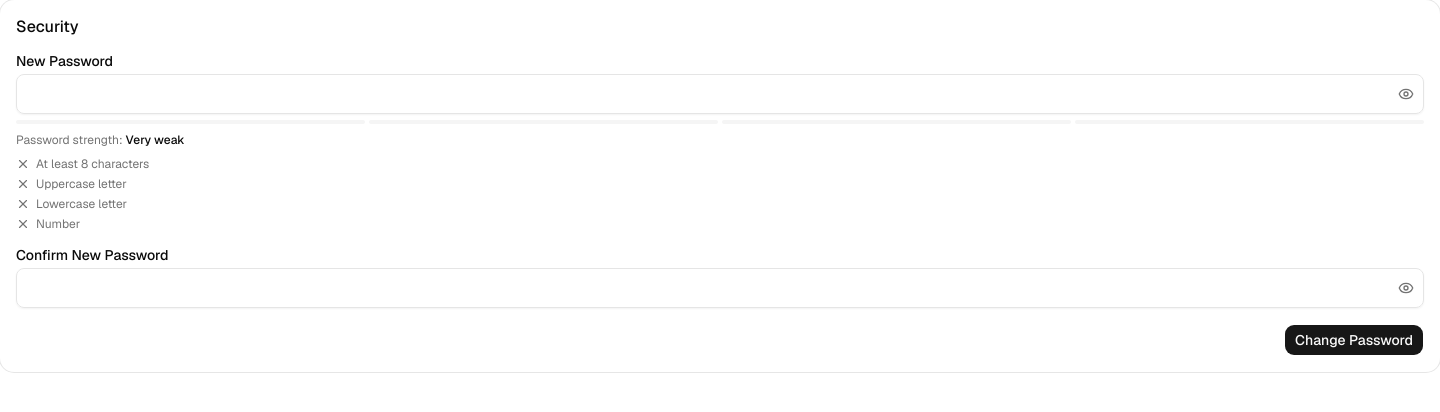
it: ChangePasswordForm › rejects a mismatched confirmation
The width and height of the screenshot is (1440, 412).
In the password field labelled "New Password": [720, 94] box [16, 74, 1424, 114], type "StrongPass1"
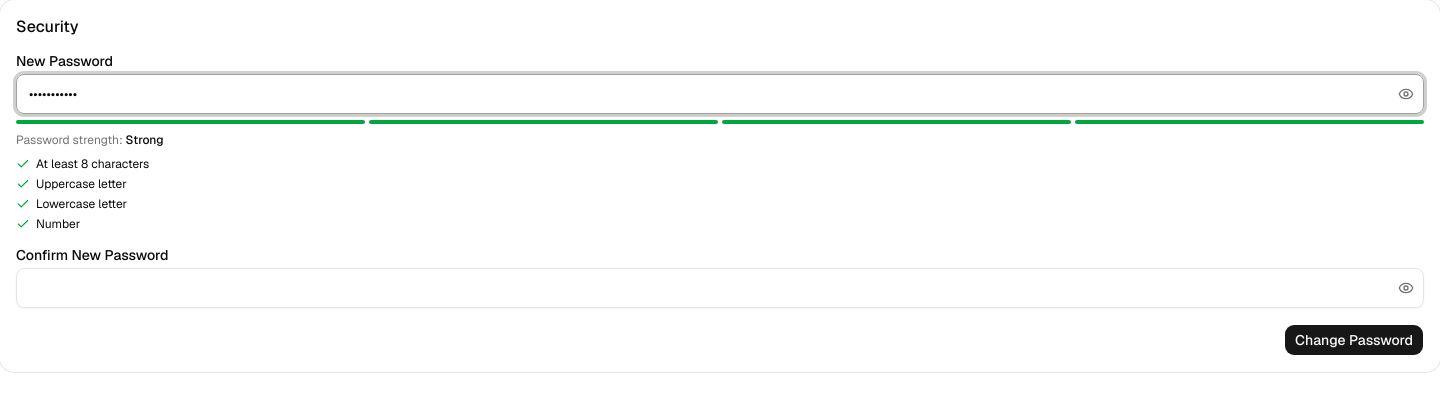
In the password field labelled "Confirm New Password": [720, 288] box [16, 268, 1424, 308], type "StrongPass2"
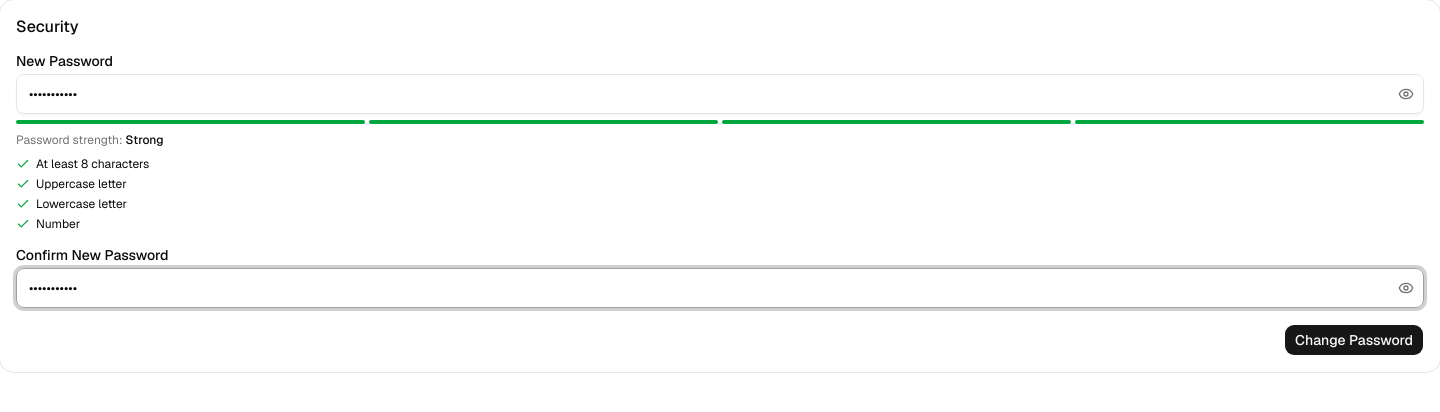
Click the button "Change Password": [1354, 340] box [1284, 324, 1424, 356]
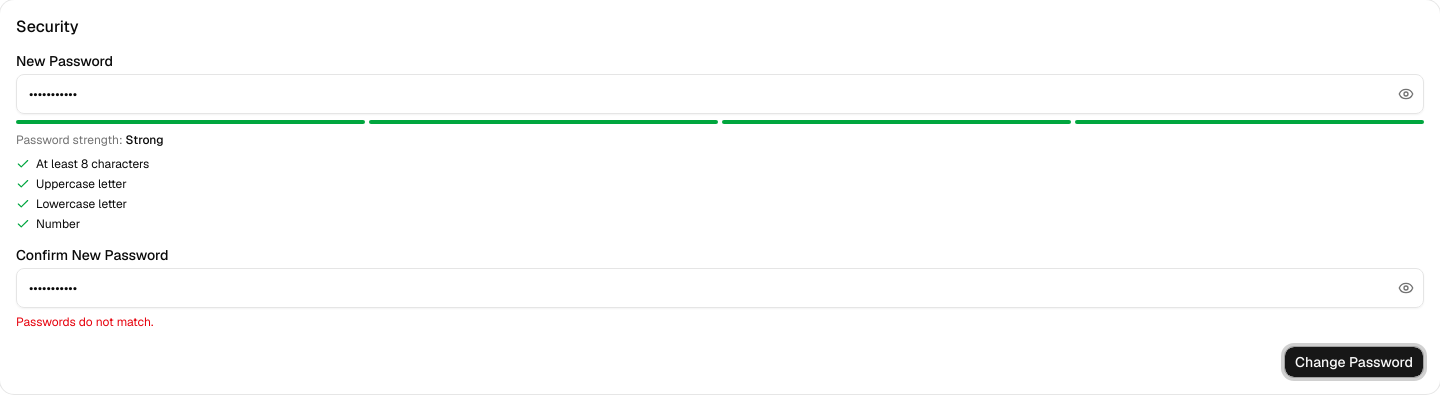
expect the text "Passwords do not match." is shown: met, box [16, 314, 153, 330]
